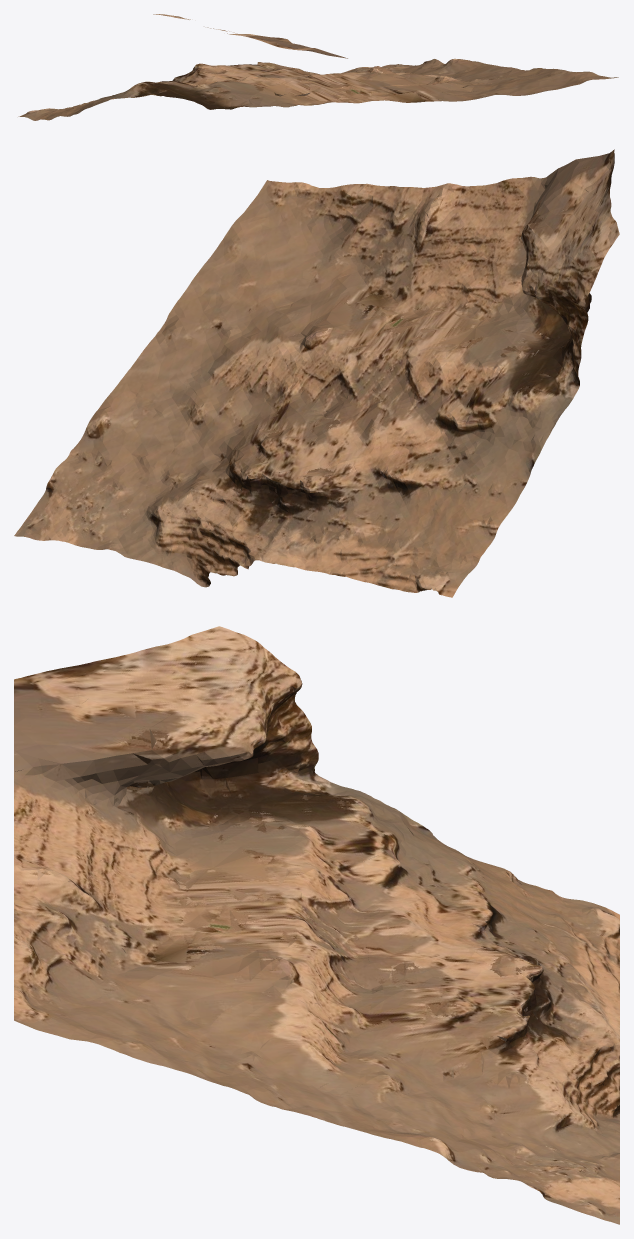
3 renders of one model, top to bottom at view 1: azimuth 30°, elevation 25°; view 2: azimuth 150°, elevation 25°; view 3: azimuth 270°, elevation 25°, orthographic. The views are drawn at different scales.
Size of the model in its own units: 1.04 by 0.6625 by 1.04.
Materials: 3 (3 with a texture image).
